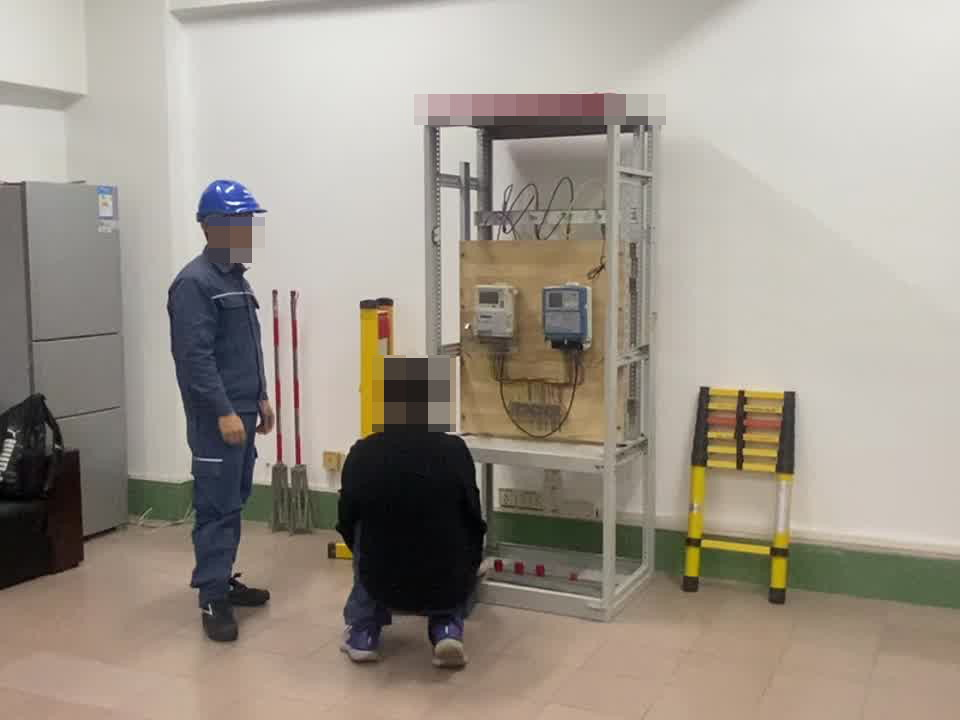downsuit: (184, 417, 261, 598)
halt: (194, 177, 268, 257)
hand: (218, 408, 246, 448), (252, 396, 278, 432)
inear: (200, 214, 229, 253)
person: (165, 176, 281, 645), (332, 355, 493, 667)
unhalt: (377, 357, 447, 424)
upcloth: (333, 426, 488, 615)
upsuit: (169, 255, 267, 409)
